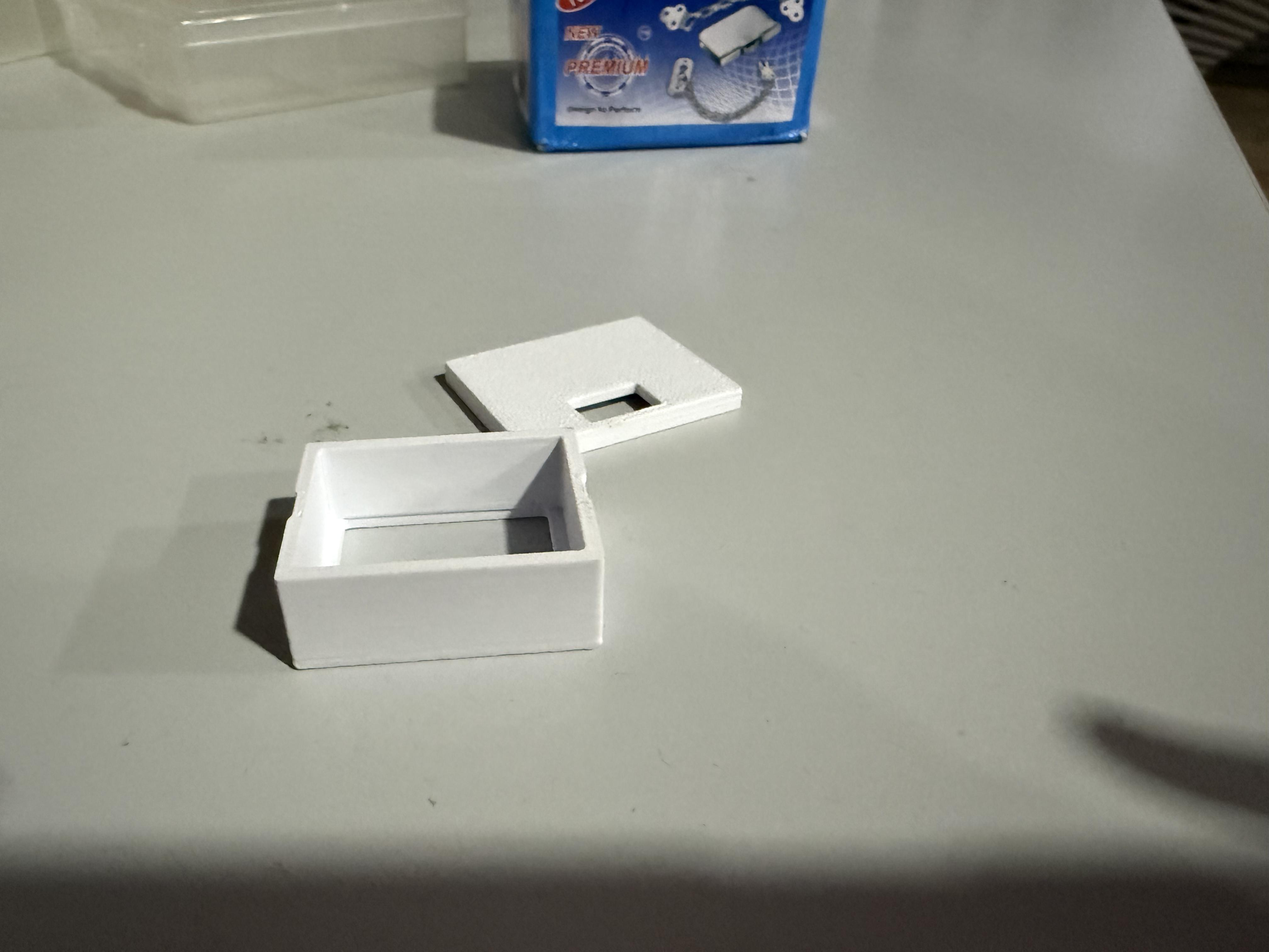enclosure: (274, 429, 605, 670), (431, 310, 786, 453)
